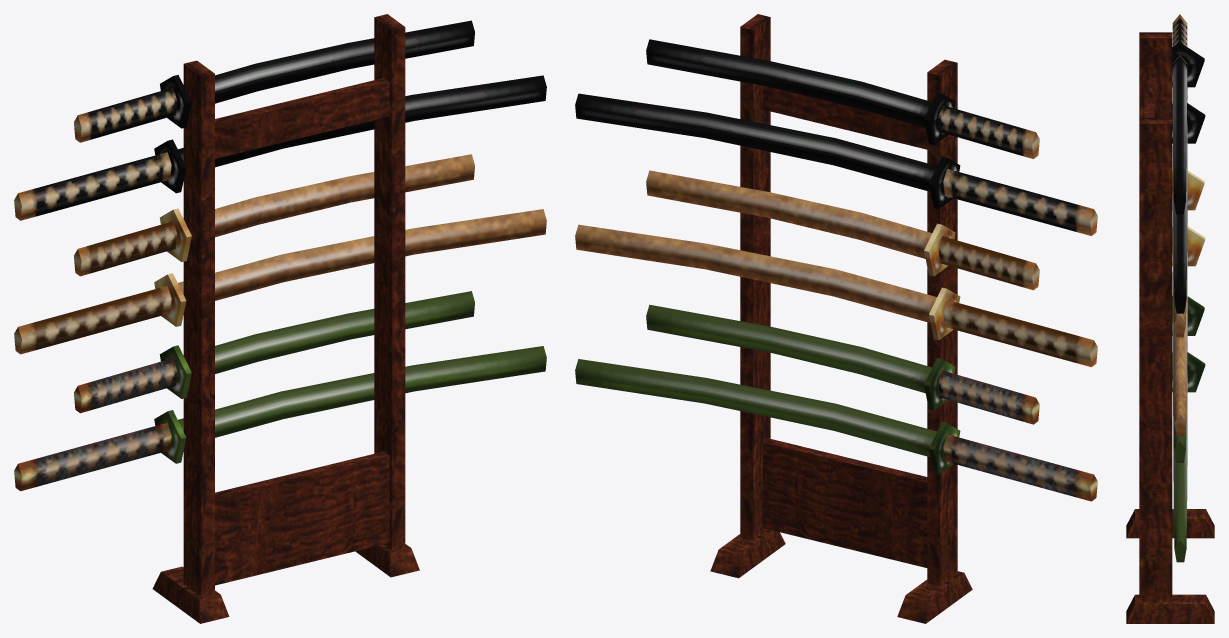
Rendered from swordrack_l1.fbx.
The picture shows the model from 3 angles, left to right: view 1: azimuth 30°, elevation 25°; view 2: azimuth 150°, elevation 25°; view 3: azimuth 270°, elevation 25°; orthographic projection. The views are drawn at different scales.
Visible parts, largest first — view 1: mesh_3, mesh_2, mesh_8, mesh_4, mesh_6, mesh_0, mesh_1, mesh_5, mesh_7, mesh_9; view 2: mesh_2, mesh_0, mesh_6, mesh_4, mesh_8, mesh_1, mesh_5, mesh_7, mesh_3, mesh_9; view 3: mesh_8, mesh_3, mesh_1, mesh_0, mesh_6, mesh_4, mesh_7, mesh_5, mesh_9.
Part boxes in pixels (left/top/right/bottom): mesh_3: left=152, top=60, right=229, bottom=623; mesh_2: left=215, top=451, right=389, bottom=585; mesh_8: left=355, top=14, right=419, bottom=577; mesh_4: left=14, top=209, right=546, bottom=354; mesh_6: left=14, top=346, right=546, bottom=491; mesh_0: left=14, top=75, right=546, bottom=220; mesh_1: left=74, top=20, right=474, bottom=142; mesh_5: left=74, top=154, right=474, bottom=276; mesh_7: left=74, top=291, right=474, bottom=413; mesh_9: left=215, top=78, right=389, bottom=158; mesh_2: left=762, top=438, right=927, bottom=567; mesh_0: left=575, top=93, right=1097, bottom=235; mesh_6: left=575, top=359, right=1097, bottom=501; mesh_4: left=575, top=224, right=1097, bottom=367; mesh_8: left=710, top=14, right=785, bottom=578; mesh_1: left=646, top=39, right=1039, bottom=158; mesh_5: left=646, top=170, right=1039, bottom=290; mesh_7: left=646, top=304, right=1039, bottom=424; mesh_3: left=897, top=59, right=972, bottom=623; mesh_9: left=762, top=86, right=927, bottom=149; mesh_8: left=1126, top=118, right=1214, bottom=623; mesh_3: left=1126, top=32, right=1214, bottom=538; mesh_1: left=1172, top=14, right=1204, bottom=214; mesh_0: left=1172, top=87, right=1205, bottom=313; mesh_6: left=1172, top=340, right=1205, bottom=562; mesh_4: left=1172, top=217, right=1205, bottom=436; mesh_7: left=1172, top=272, right=1204, bottom=462; mesh_5: left=1172, top=146, right=1204, bottom=337; mesh_9: left=1144, top=87, right=1154, bottom=117.
Size of the model in its own units: 132 by 130 by 20.88.
1 material, 1 textured.
